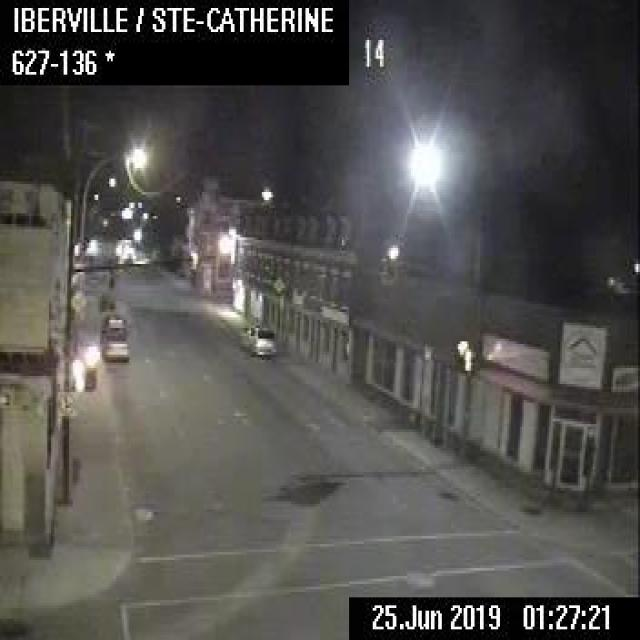vehicle: (246, 320, 276, 355), (101, 331, 128, 360), (103, 312, 125, 336)
